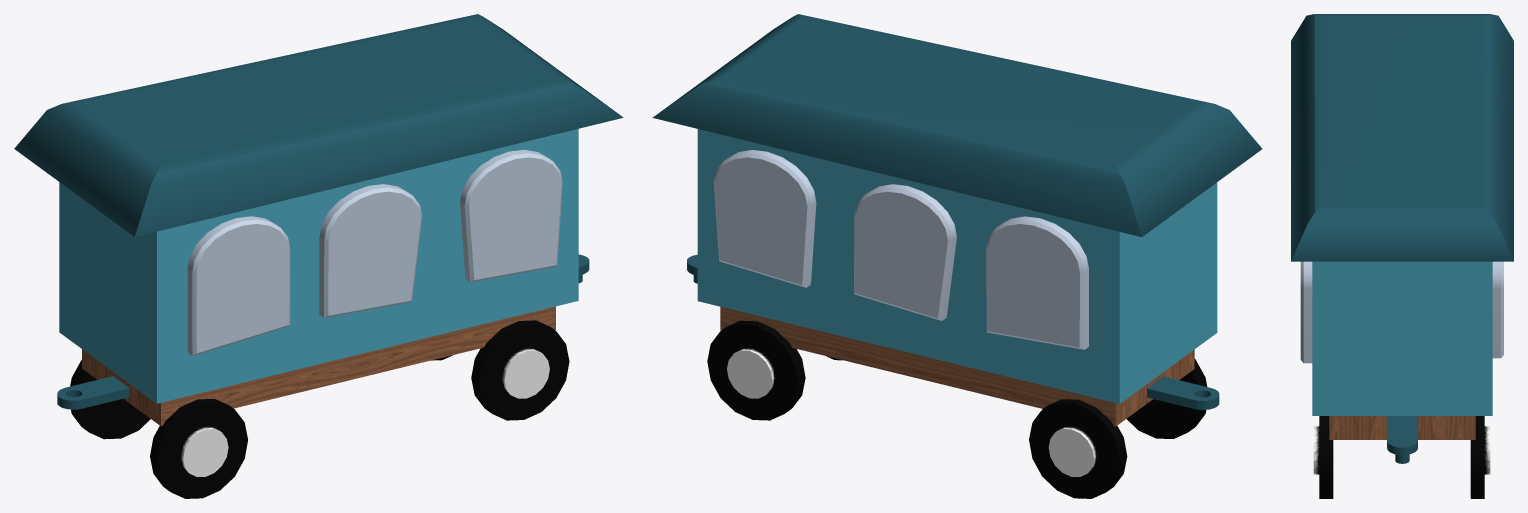
The model's file is Passenger_Cart_FBX.fbx.
The picture shows the model from 3 angles, left to right: view 1: azimuth 30°, elevation 25°; view 2: azimuth 150°, elevation 25°; view 3: azimuth 270°, elevation 25°; orthographic projection. The views are drawn at different scales.
Parts seen in each view (by area): view 1: Passenger_Cart_Roof, polySurface7, Passenger_Windows, Passenger_Cart, Passenger_Wheel1, Passenger_Wheel4, Passenger_Wheel3; view 2: Passenger_Cart_Roof, polySurface7, Passenger_Windows, Passenger_Cart, Passenger_Wheel3, Passenger_Wheel2, Passenger_Wheel4; view 3: Passenger_Cart_Roof, polySurface7, Passenger_Cart, Passenger_Windows, Passenger_Wheel1, Passenger_Wheel2.
Part boxes in pixels (<box>): Passenger_Cart_Roof: <box>14,14,623,409</box>; polySurface7: <box>59,129,578,403</box>; Passenger_Windows: <box>187,149,562,355</box>; Passenger_Cart: <box>82,306,555,426</box>; Passenger_Wheel1: <box>471,320,569,420</box>; Passenger_Wheel4: <box>150,398,247,498</box>; Passenger_Wheel3: <box>70,360,150,439</box>; Passenger_Cart_Roof: <box>652,14,1262,409</box>; polySurface7: <box>697,129,1217,403</box>; Passenger_Windows: <box>713,150,1088,349</box>; Passenger_Cart: <box>720,306,1194,426</box>; Passenger_Wheel3: <box>1029,399,1127,498</box>; Passenger_Wheel2: <box>707,320,805,420</box>; Passenger_Wheel4: <box>1126,359,1207,438</box>; Passenger_Cart_Roof: <box>1291,14,1513,463</box>; polySurface7: <box>1312,261,1492,415</box>; Passenger_Cart: <box>1329,416,1475,439</box>; Passenger_Windows: <box>1300,261,1503,363</box>; Passenger_Wheel1: <box>1313,416,1333,498</box>; Passenger_Wheel2: <box>1470,416,1490,498</box>.
Size of the model in its own units: 943 by 582 by 372.
